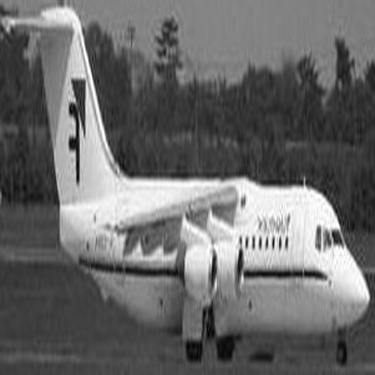airplane: (5, 3, 369, 368)
